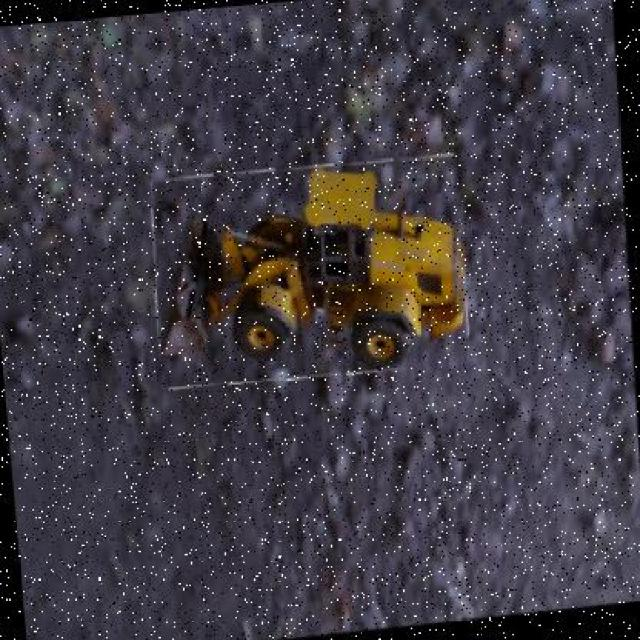buldozerpayloadergrader: (147, 160, 471, 386)
